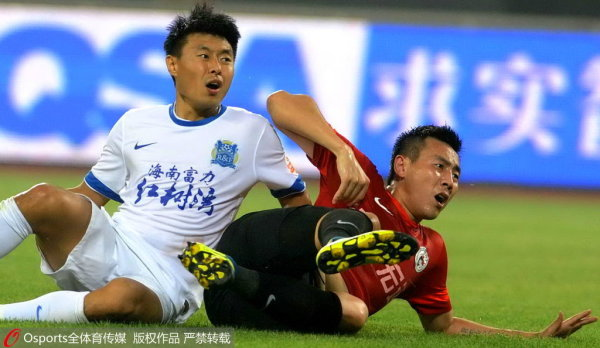fall: (216, 67, 571, 343)
